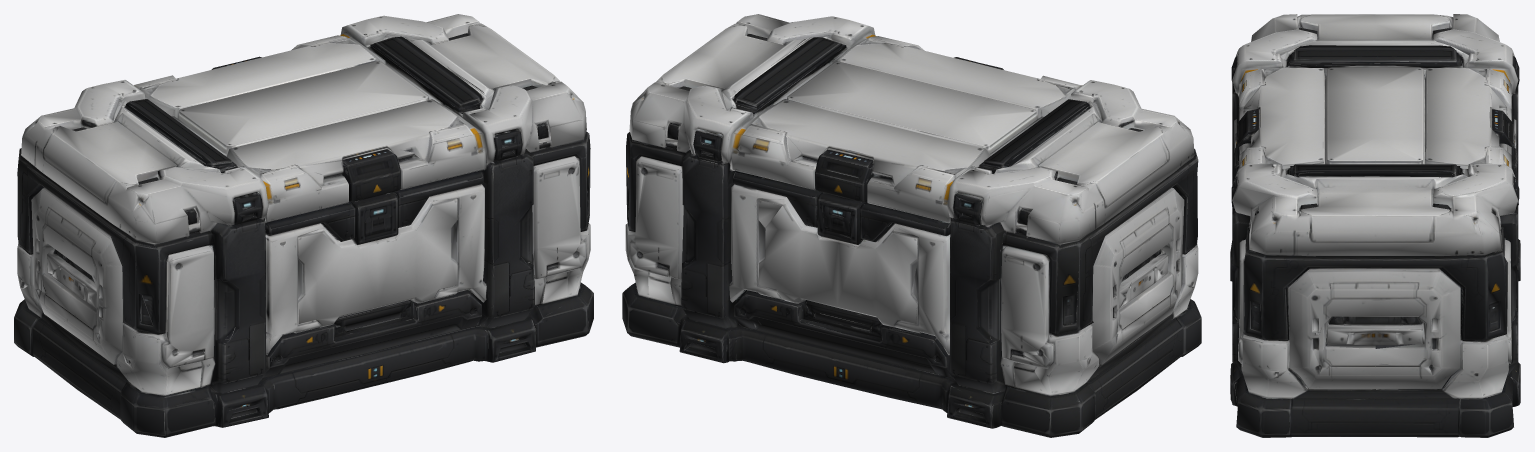
The model's file is Futuristic_Box.glb.
3 renders of one model, left to right at view 1: azimuth 30°, elevation 25°; view 2: azimuth 150°, elevation 25°; view 3: azimuth 270°, elevation 25°, orthographic. The views are drawn at different scales.
Bounding box in the file's own units: 0.9526 × 0.4602 × 0.5391.
1 material, 1 textured.
